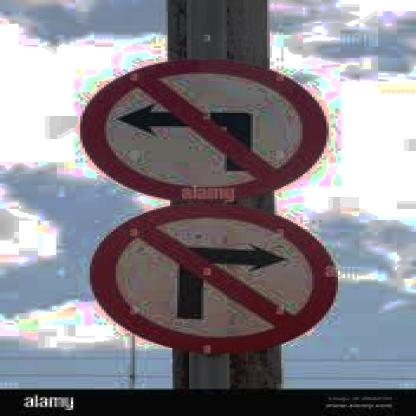No right turn: (89, 206, 347, 352)
